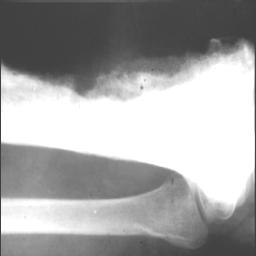cancer: (0, 39, 253, 238)
